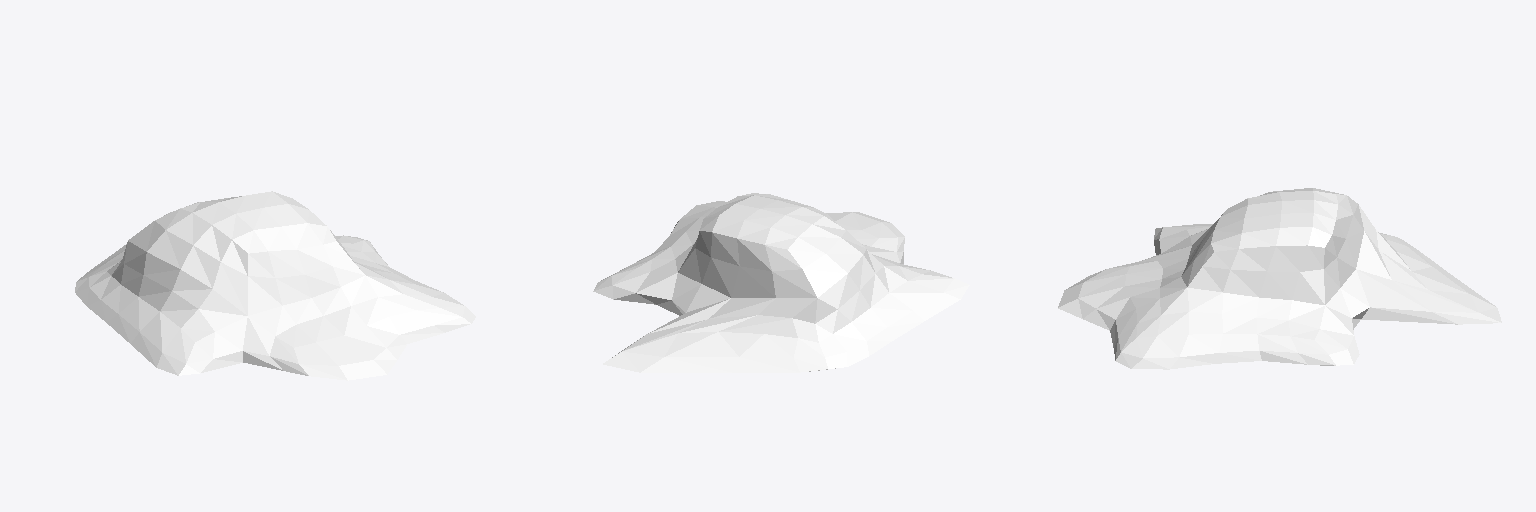
File: snow.obj
3 renders of one model, left to right at view 1: azimuth 30°, elevation 25°; view 2: azimuth 150°, elevation 25°; view 3: azimuth 270°, elevation 25°, orthographic.
Visible parts, largest first — view 1: cloud; view 2: cloud; view 3: cloud.
Boxes of the visible parts, x1,y1,x2,y2 form: cloud: [75, 191, 475, 380]; cloud: [593, 193, 969, 372]; cloud: [1058, 188, 1501, 369].
Size of the model in its own units: 5.55 by 1.68 by 7.31.